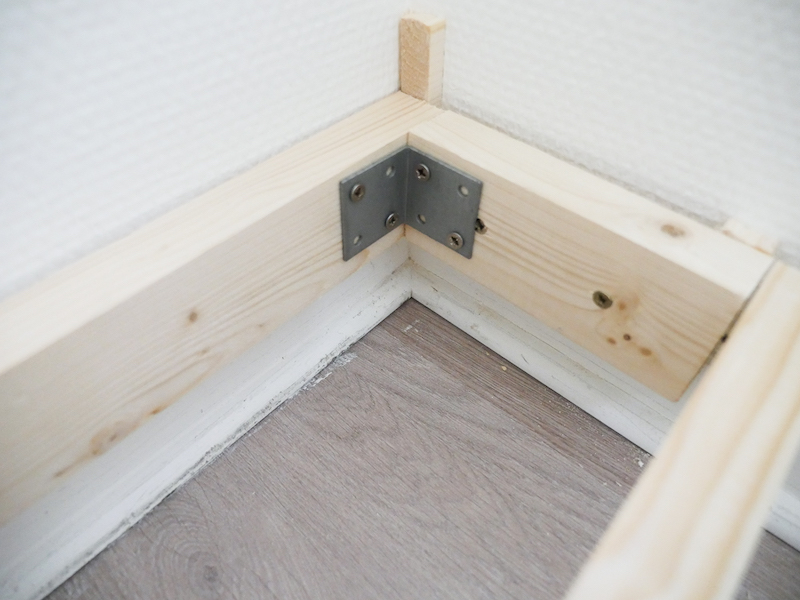hole: (454, 181, 473, 200), (414, 211, 429, 228), (384, 164, 397, 180), (350, 234, 364, 247)
screw: (409, 160, 434, 186), (444, 230, 465, 252), (348, 181, 367, 204), (382, 211, 401, 231)
